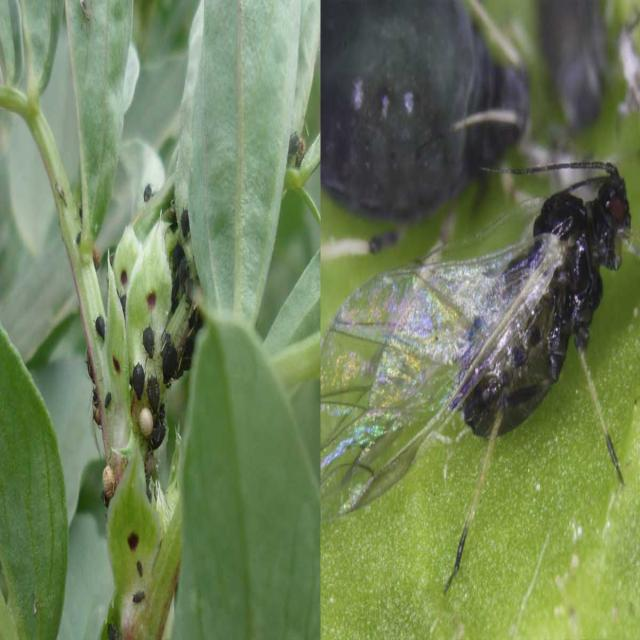Aphid-Grown-: (137, 316, 158, 364), (126, 353, 147, 401), (90, 306, 112, 348), (144, 366, 162, 409), (110, 353, 123, 380), (101, 388, 116, 411)
